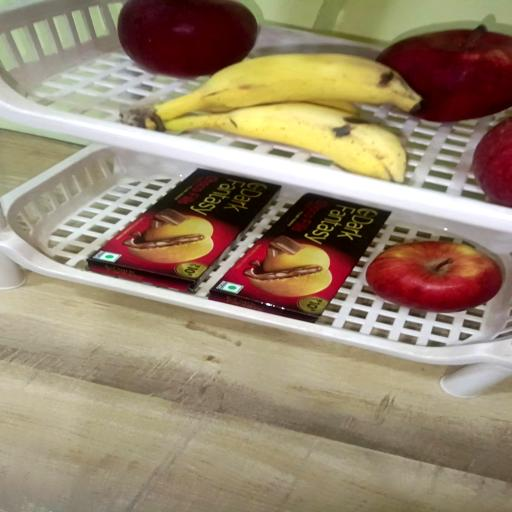Apple: (376, 24, 512, 122), (120, 0, 261, 79), (366, 242, 502, 314), (472, 122, 510, 210)
Choco Fills: (87, 168, 278, 290), (206, 192, 386, 320)
